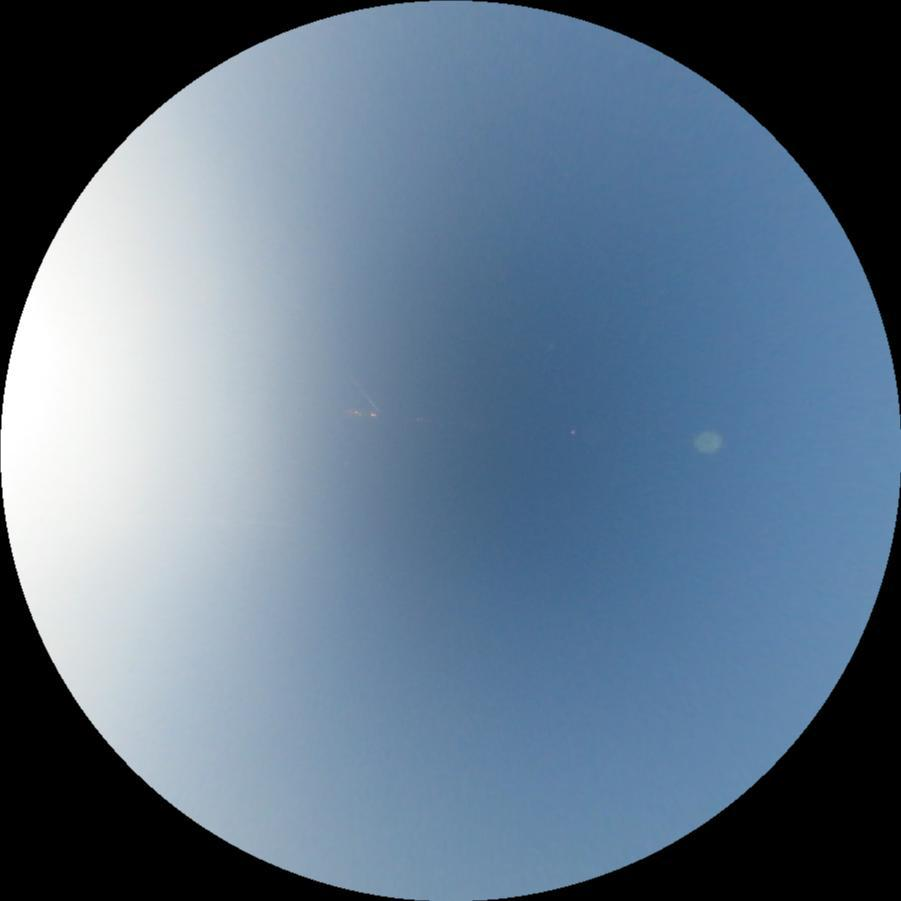contrail young: (342, 366, 381, 415)
